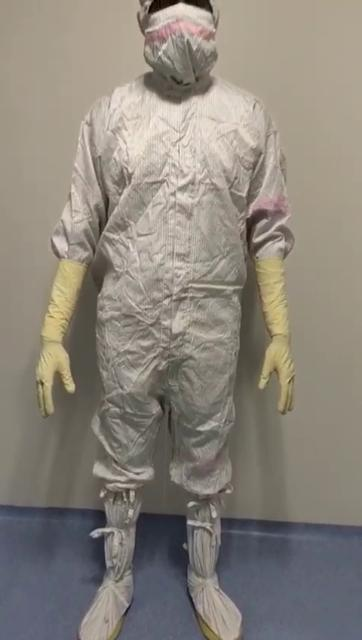boot_secured: (174, 456, 258, 640), (78, 446, 150, 640)
gloves_fitted_securely: (247, 238, 319, 422), (30, 243, 94, 424)
zip_secured: (158, 63, 204, 340)
